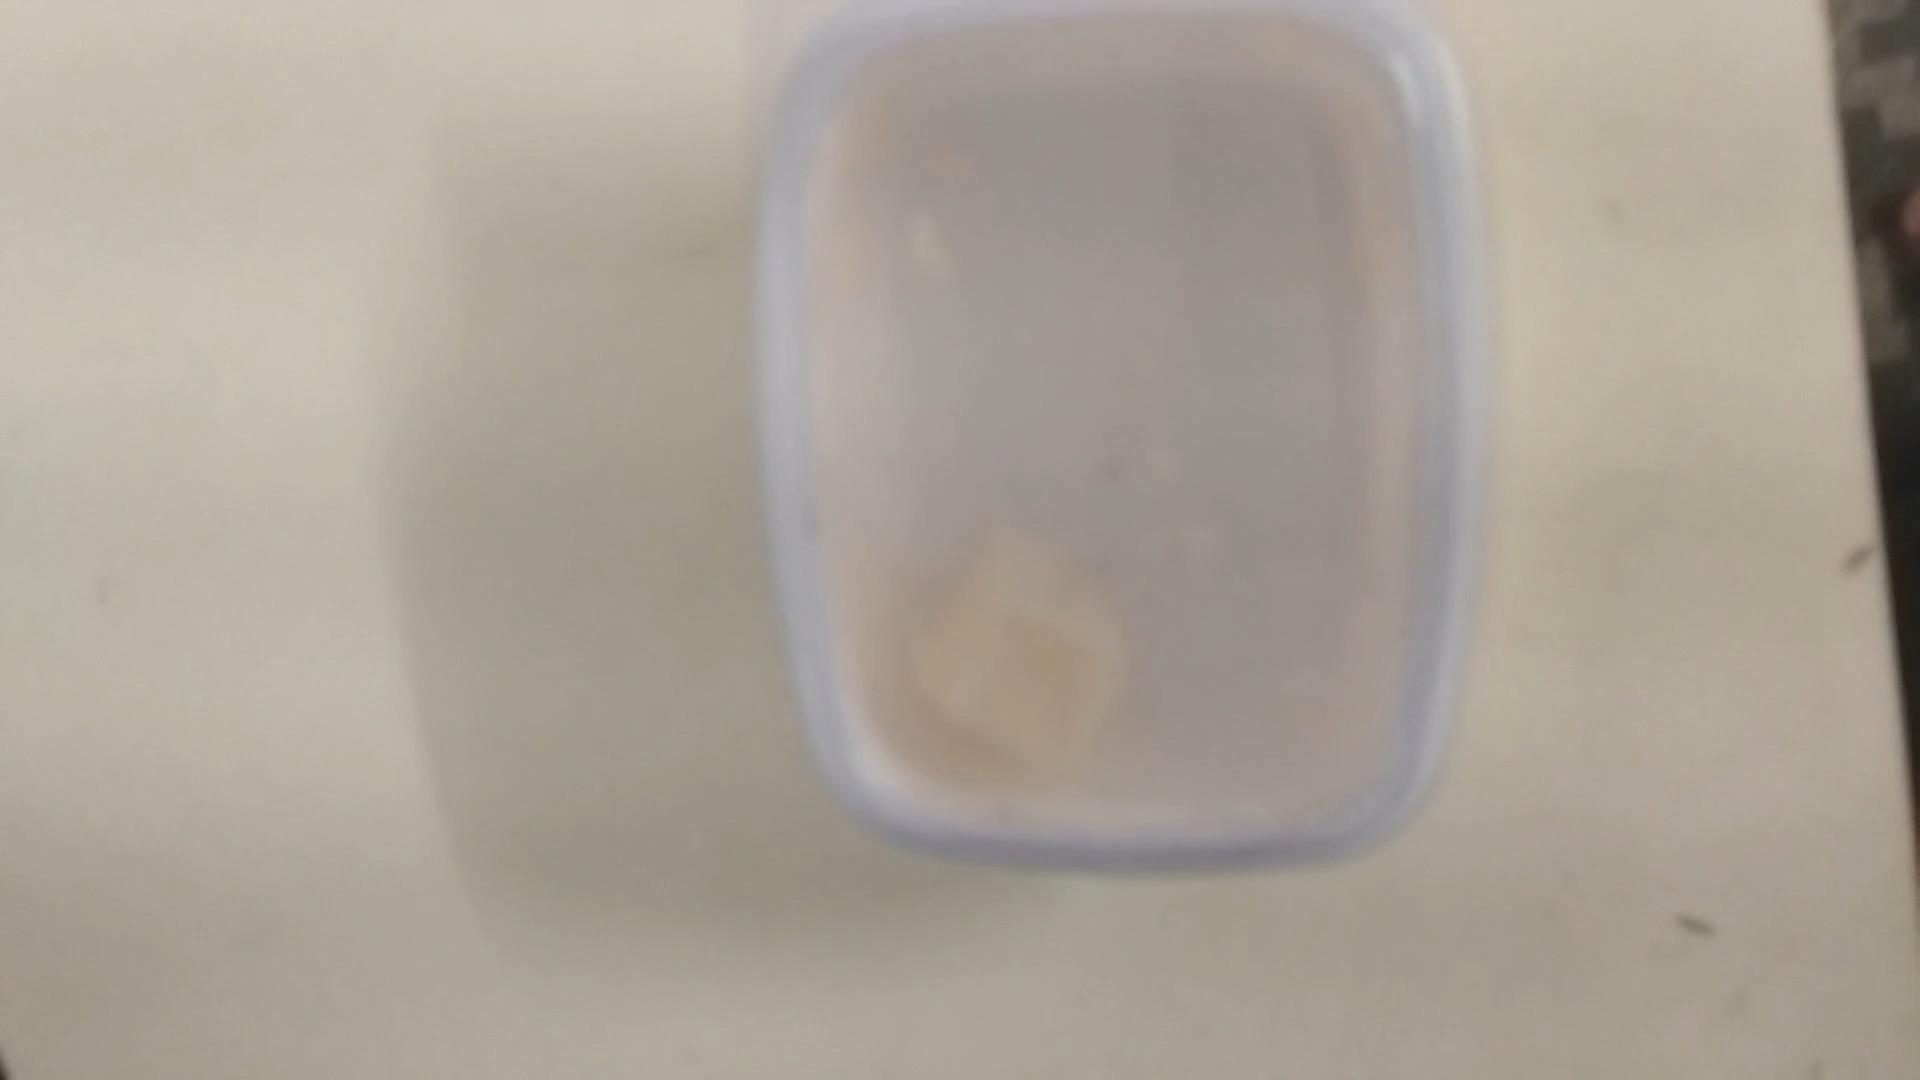butter: (756, 0, 1462, 876)
